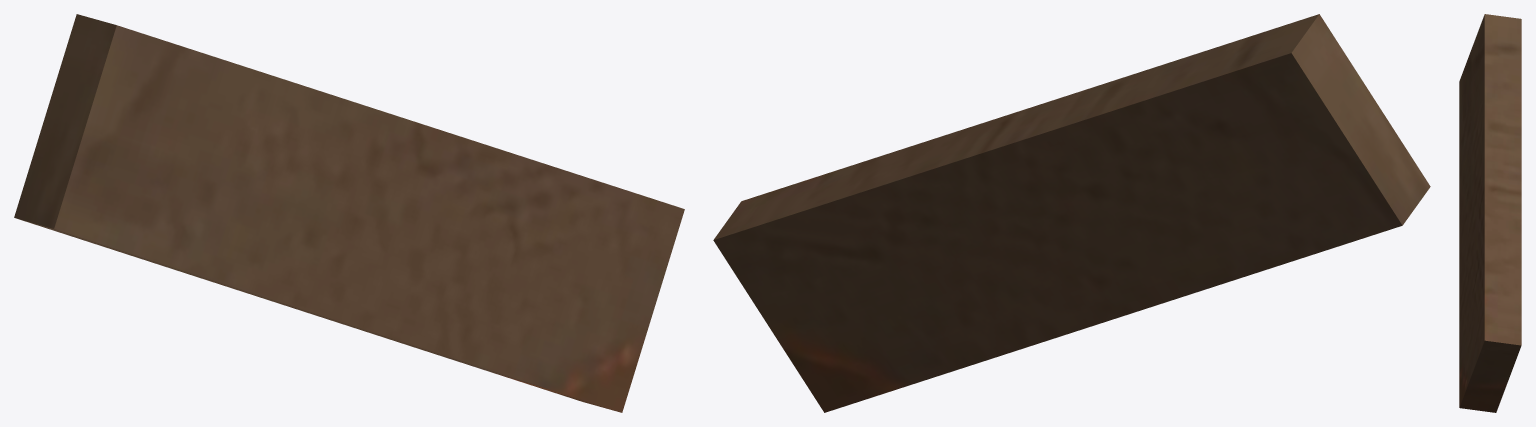
The model's file is fan_left__blade_3.glb.
3 views of the same model, side by side, from view 1: azimuth 30°, elevation 25°; view 2: azimuth 150°, elevation 25°; view 3: azimuth 270°, elevation 25° (orthographic). The views are drawn at different scales.
Parts seen in each view (by area): view 1: geometry_0; view 2: geometry_0; view 3: geometry_0.
Boxes of the visible parts, bbox=[...] form: geometry_0: bbox=[14, 14, 684, 412]; geometry_0: bbox=[713, 14, 1430, 412]; geometry_0: bbox=[1459, 14, 1521, 412].
Size of the model in its own units: 0.0286 by 0.0207 by 0.00428.
Materials: 1 (1 with a texture image).
